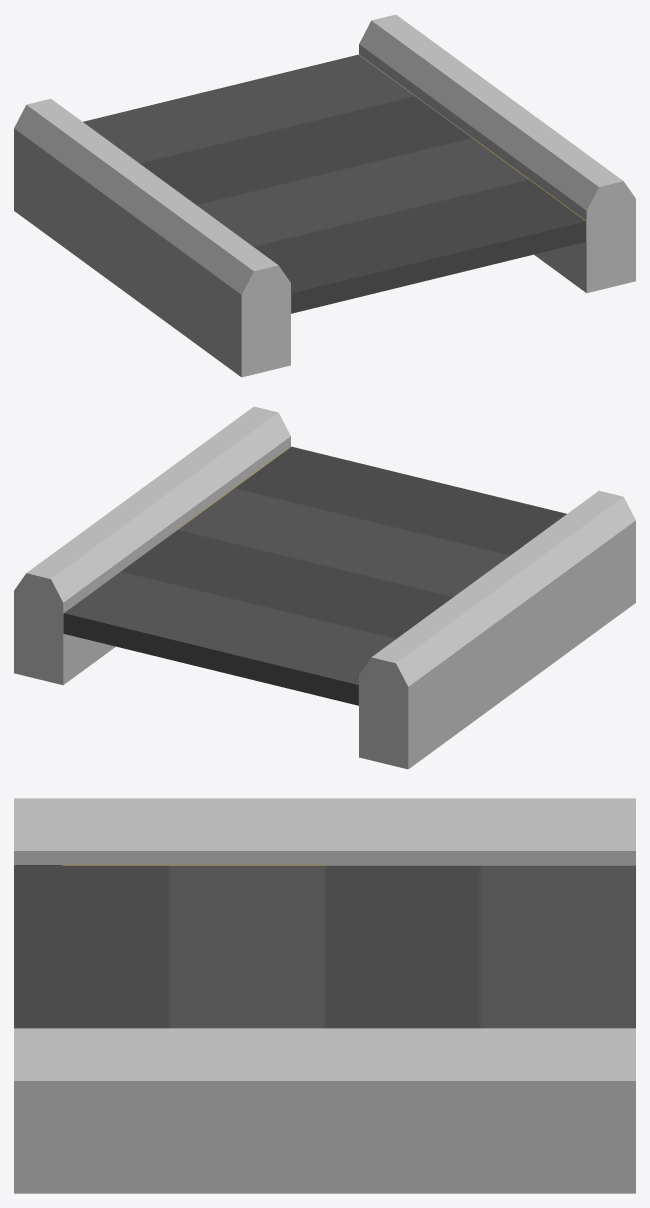
The model's file is StraightBelt.obj.
3 views of the same model, one above another, from view 1: azimuth 30°, elevation 25°; view 2: azimuth 150°, elevation 25°; view 3: azimuth 270°, elevation 25° (orthographic). The views are drawn at different scales.
Parts seen in each view (by area): view 1: Cube_Cube.001; view 2: Cube_Cube.001; view 3: Cube_Cube.001.
Boxes of the visible parts, x1,y1,x2,y2 form: Cube_Cube.001: (14, 14, 635, 377); Cube_Cube.001: (14, 406, 635, 769); Cube_Cube.001: (14, 798, 635, 1193).
Bounding box in the file's own units: 40 × 10 × 40.
1 material, 1 textured.
